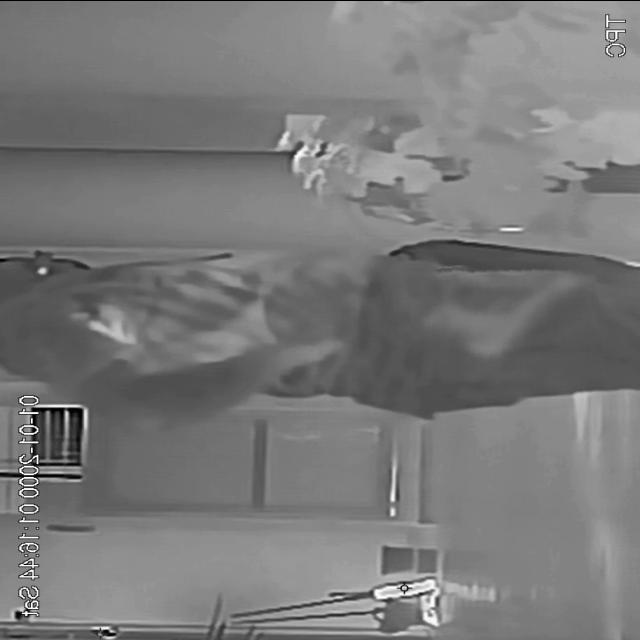Weapon: (408, 258, 602, 382)
